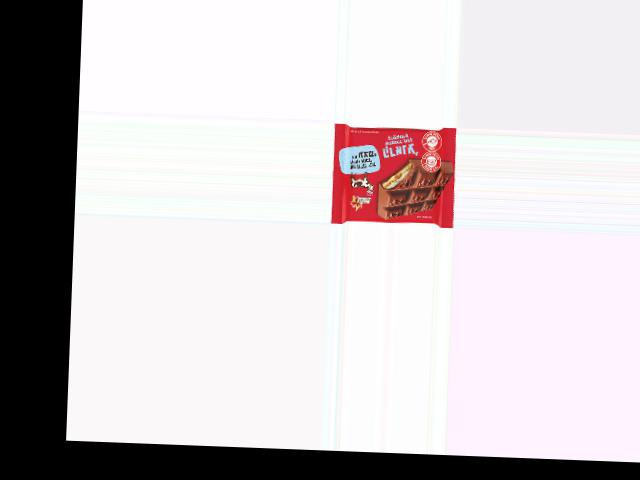chocolate: (335, 122, 455, 226)
